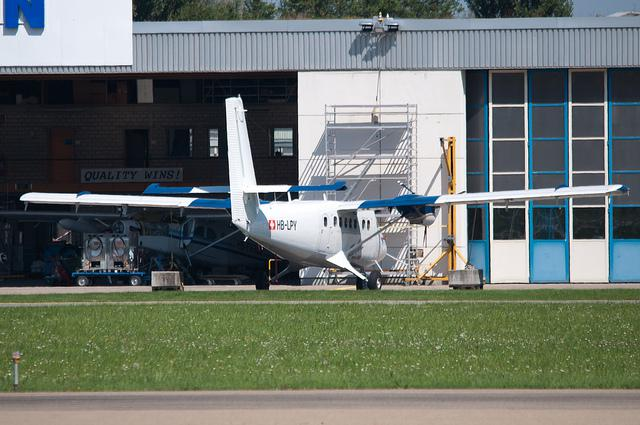Airplane: (25, 94, 628, 292), (57, 213, 282, 290)
